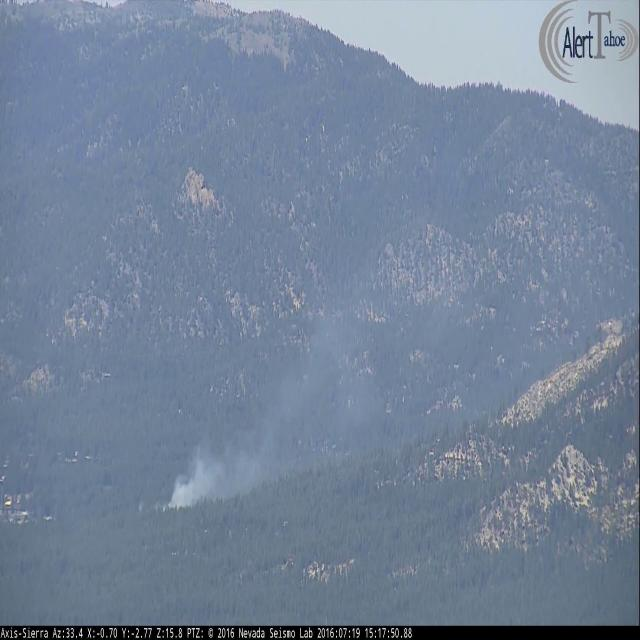smoke: (146, 238, 498, 522)
